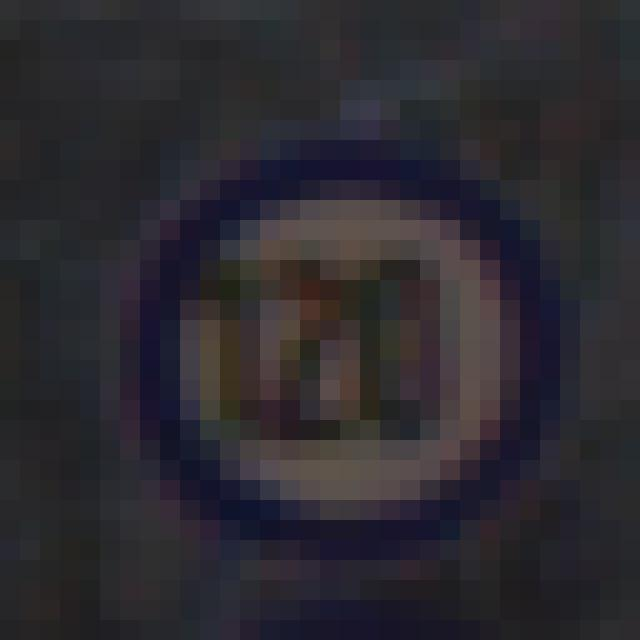SPEED LIMIT 120: (119, 135, 561, 540)
